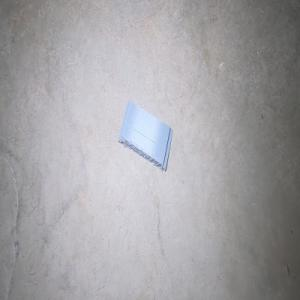PlasticPart: (117, 100, 173, 172)
